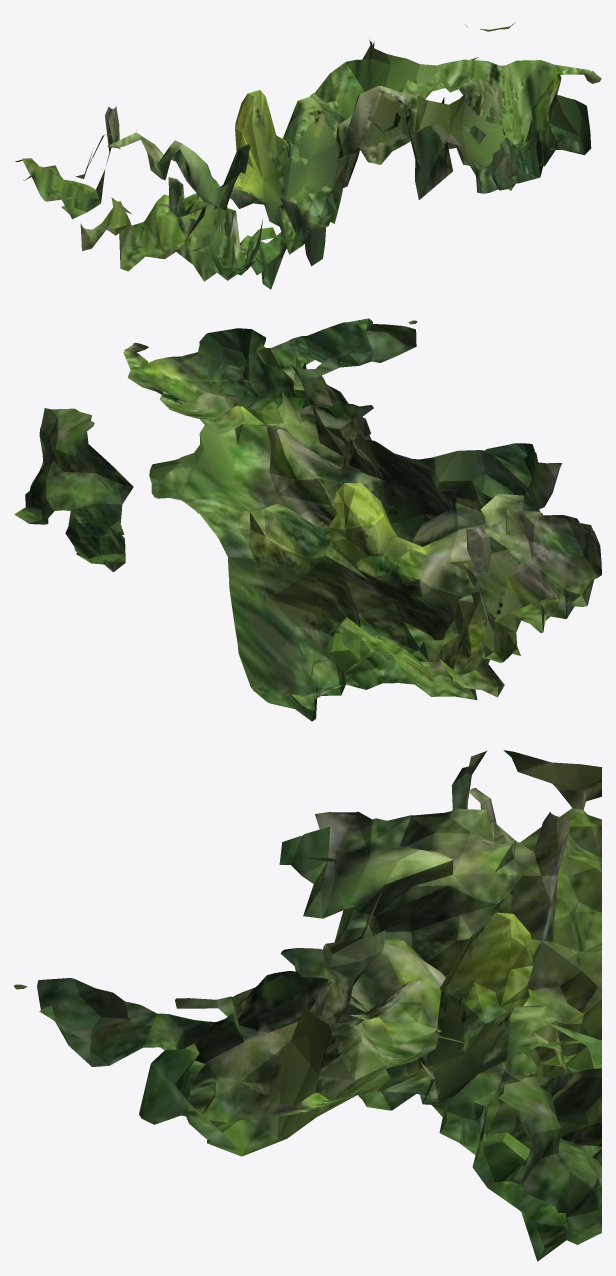
3 renders of one model, top to bottom at view 1: azimuth 30°, elevation 25°; view 2: azimuth 150°, elevation 25°; view 3: azimuth 270°, elevation 25°, orthographic. The views are drawn at different scales.
Size of the model in its own units: 26.11 by 11.17 by 17.85.
2 materials, 2 textured.
